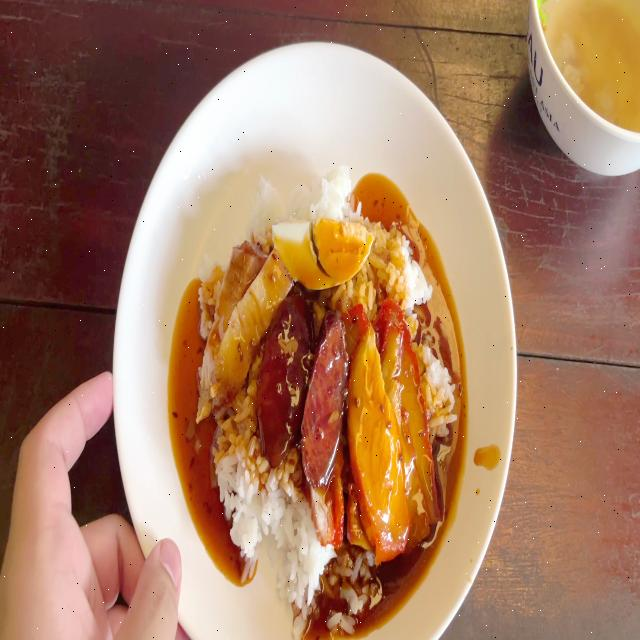boiled_egg: (271, 219, 378, 289)
chainese_sausage: (269, 311, 343, 474), (257, 302, 307, 453), (299, 327, 342, 477)
crispy_pork: (195, 244, 284, 416)
red_pork: (351, 327, 431, 545)
red_pork_and_crispy_pork: (203, 159, 451, 612)
rice: (253, 499, 318, 632), (215, 385, 262, 541), (262, 179, 352, 222)
